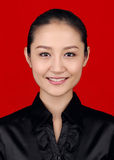unmask: (33, 30, 83, 90)
